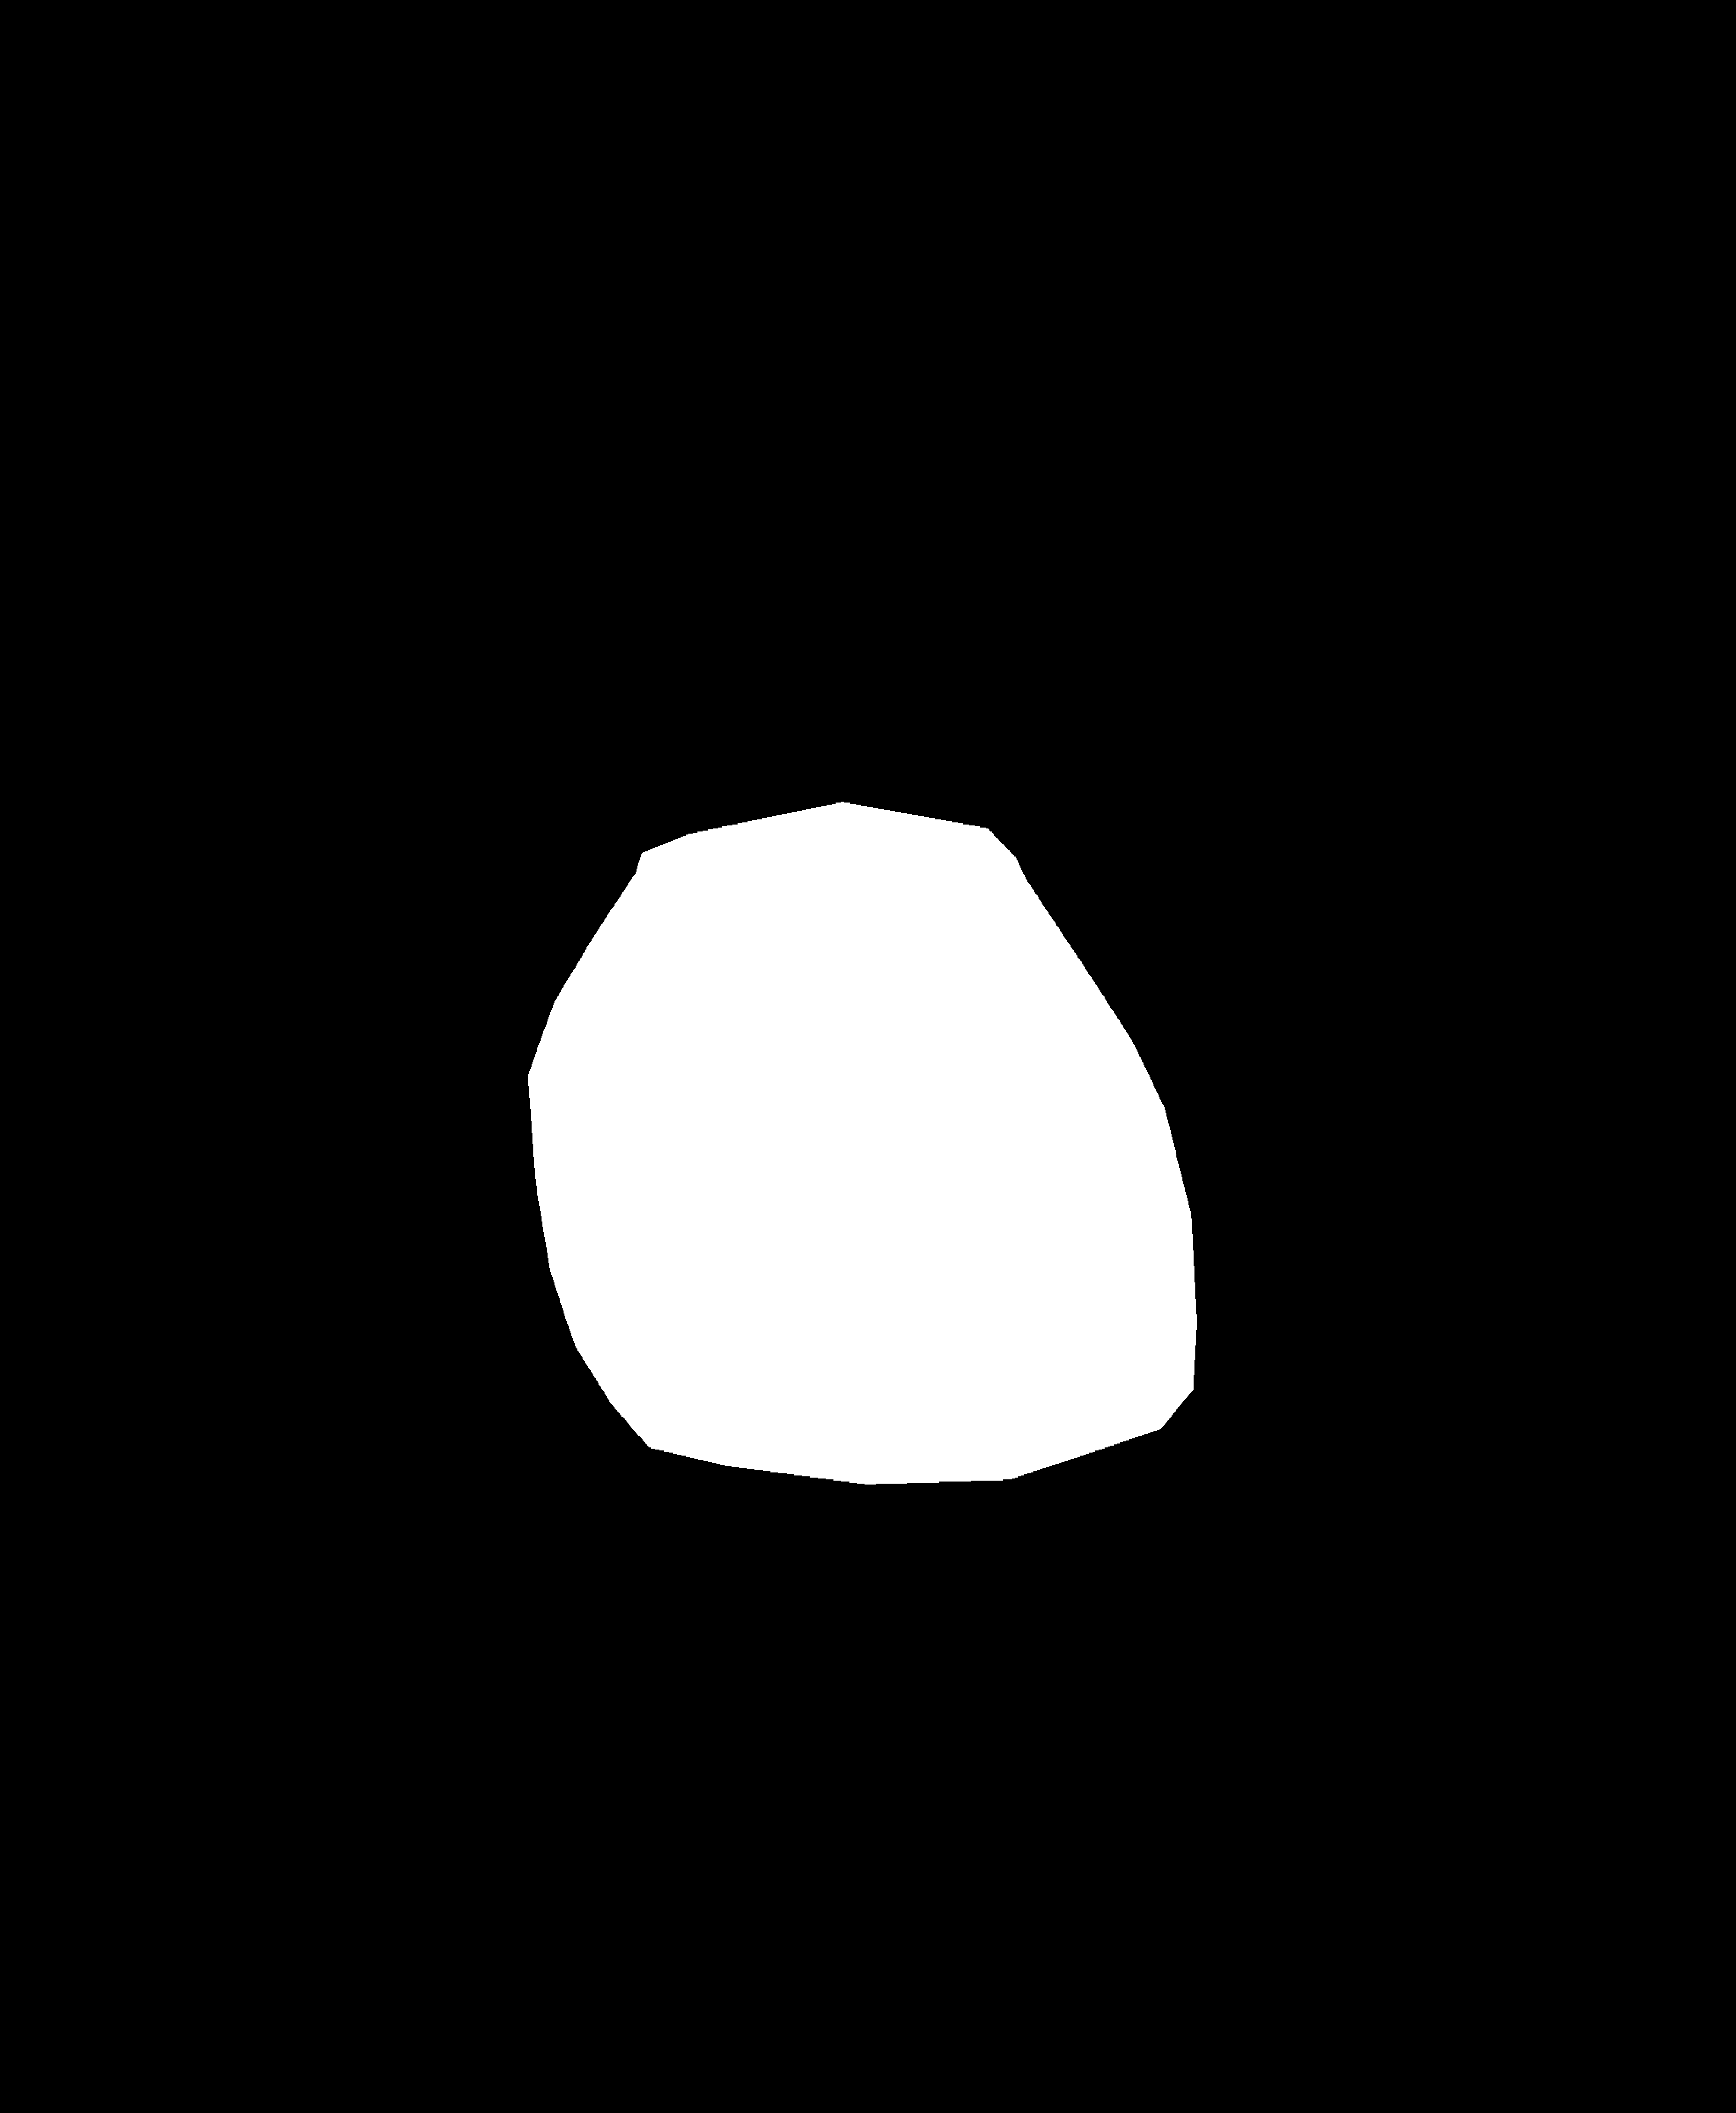heart: (530, 927, 1197, 1509)
left_lung: (23, 109, 718, 1669)
right_lung: (841, 112, 1541, 1688)
